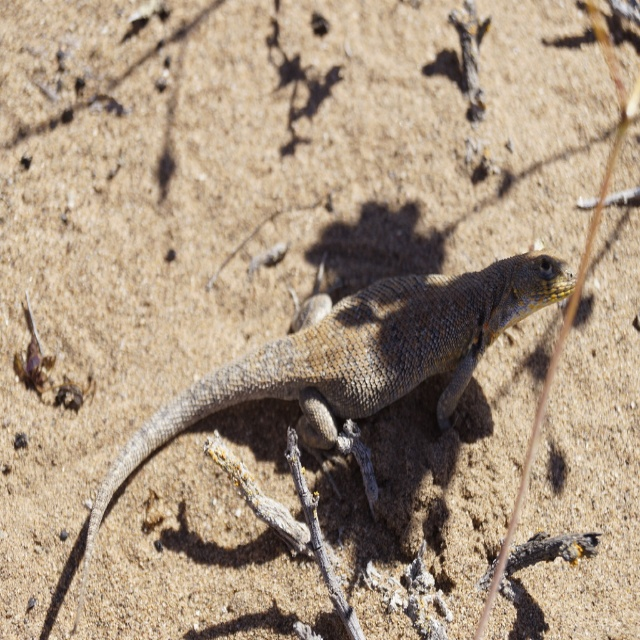Lizard: (73, 246, 577, 634)
